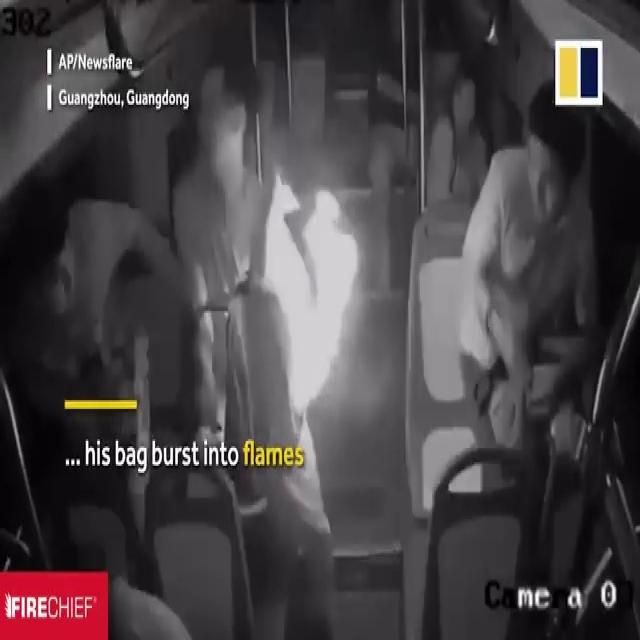fire: (256, 155, 374, 421)
